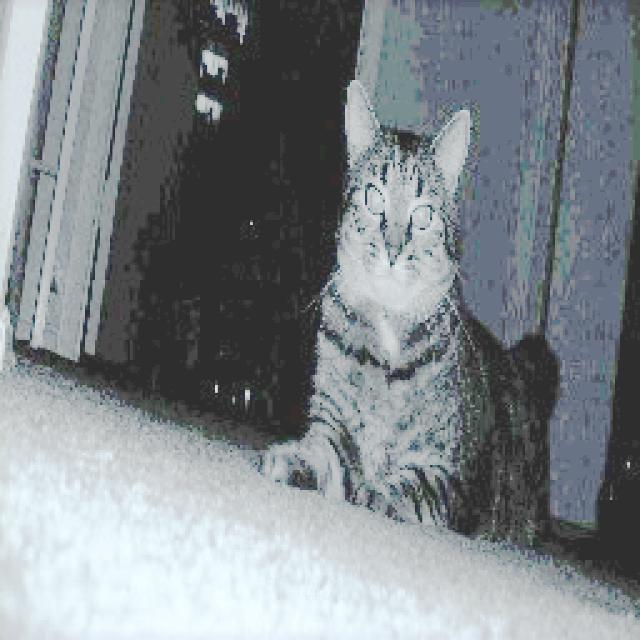cat: (316, 67, 544, 561)
